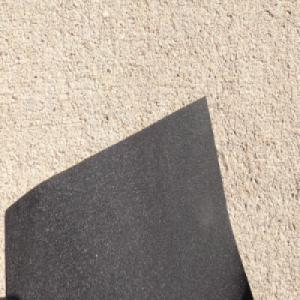PaintChip: (4, 89, 254, 300)
